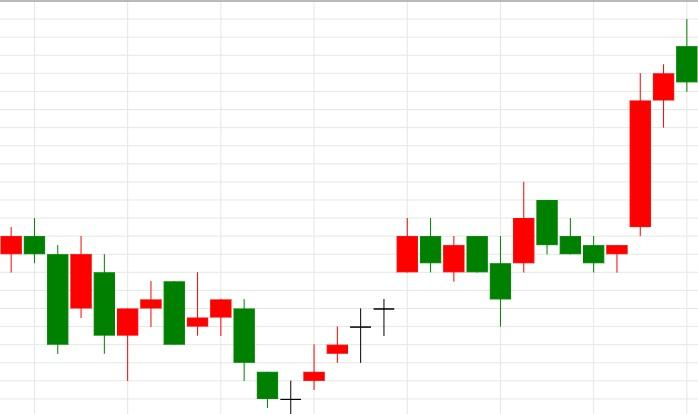bearish_engulfing_fall: (280, 217, 442, 414)
three_white_soldiers_rise: (536, 64, 675, 272)
